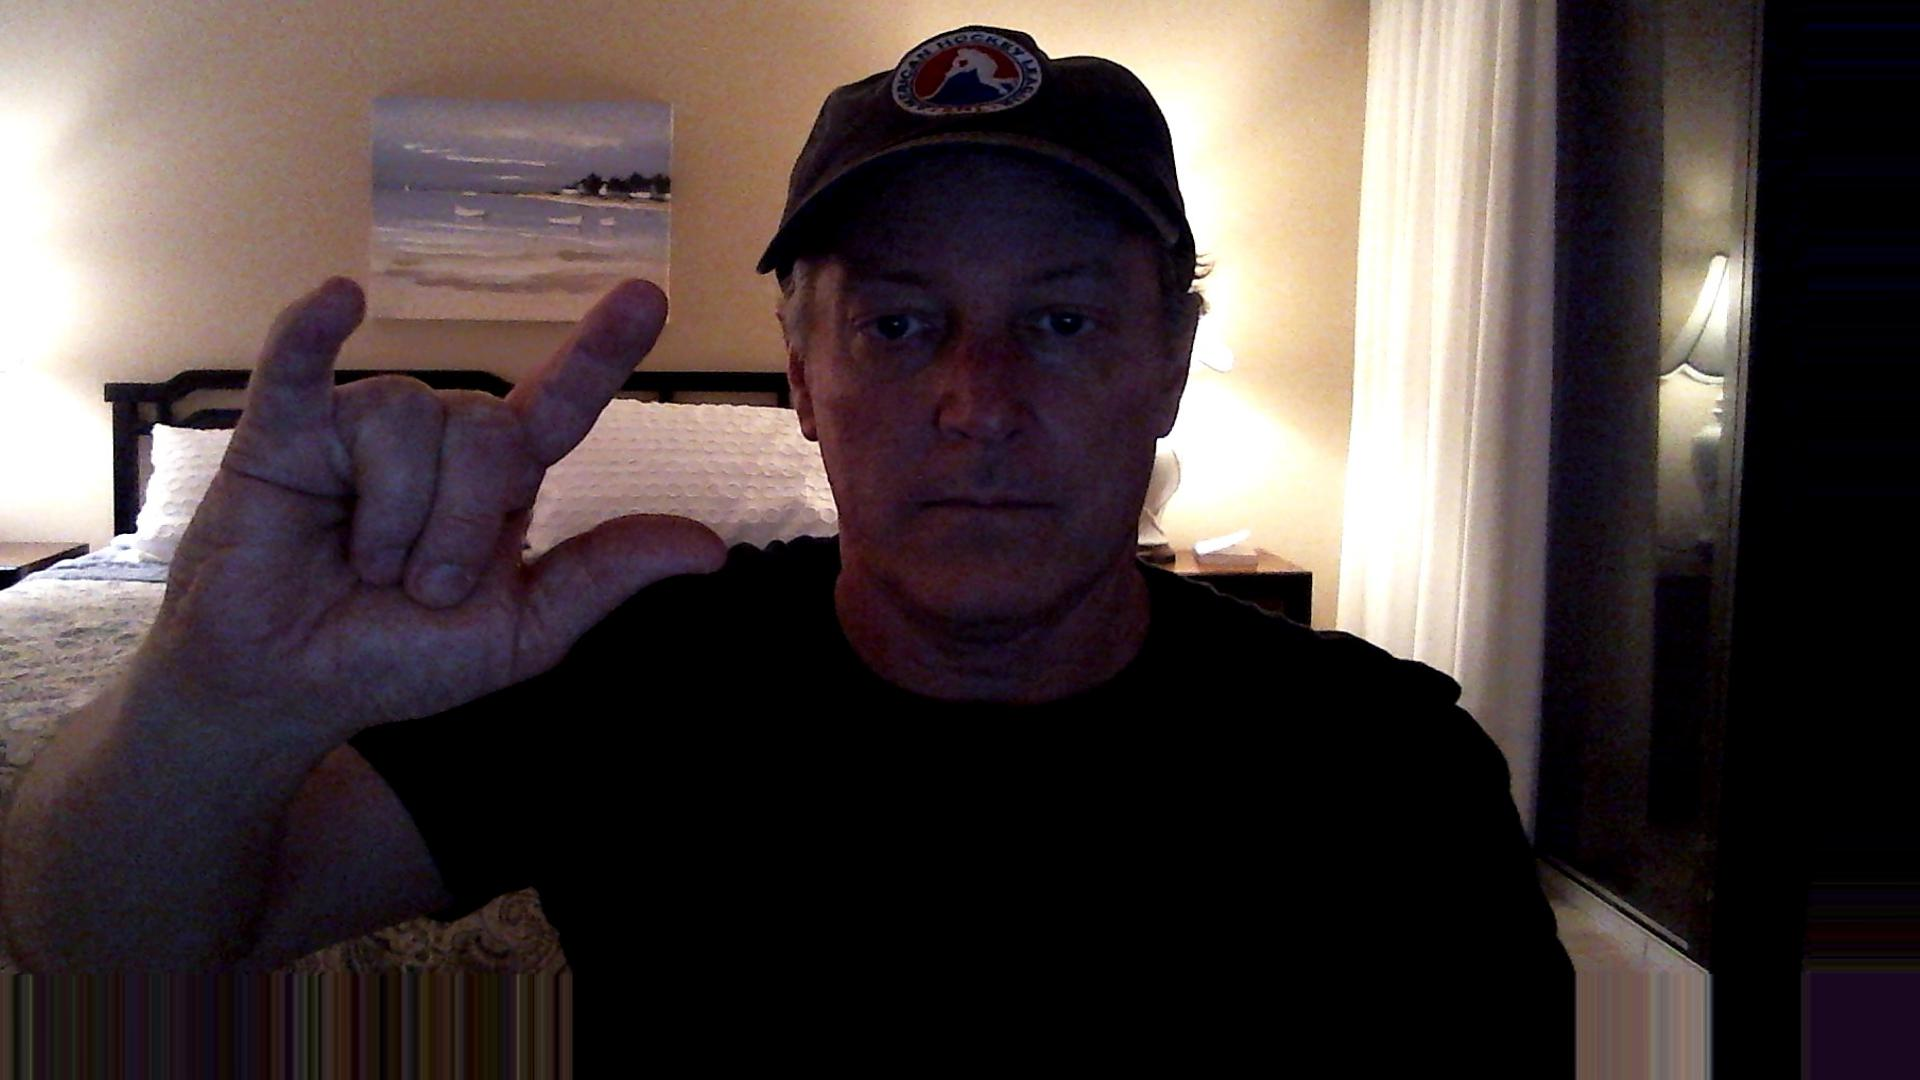I Love You: (133, 244, 757, 732)
